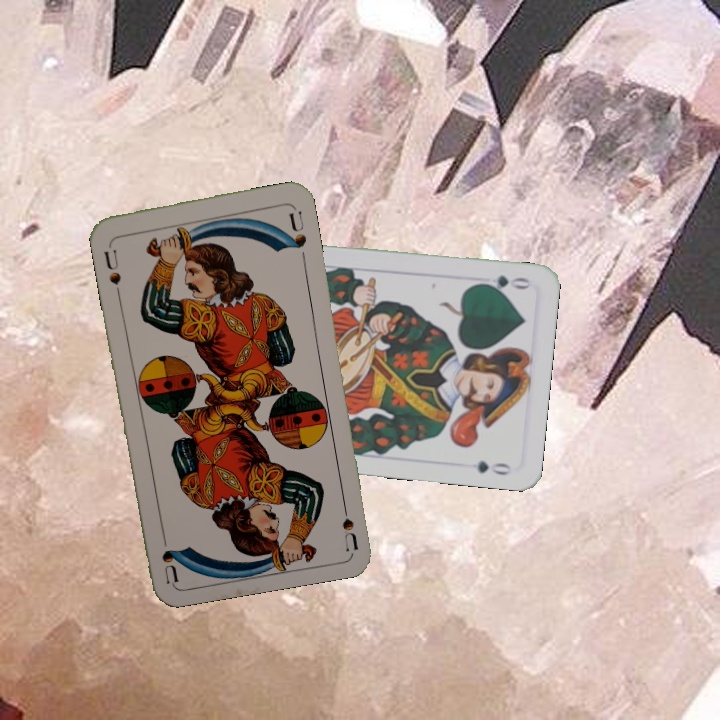GO: (474, 271, 534, 294)
SU: (100, 237, 124, 297), (337, 492, 360, 552)
